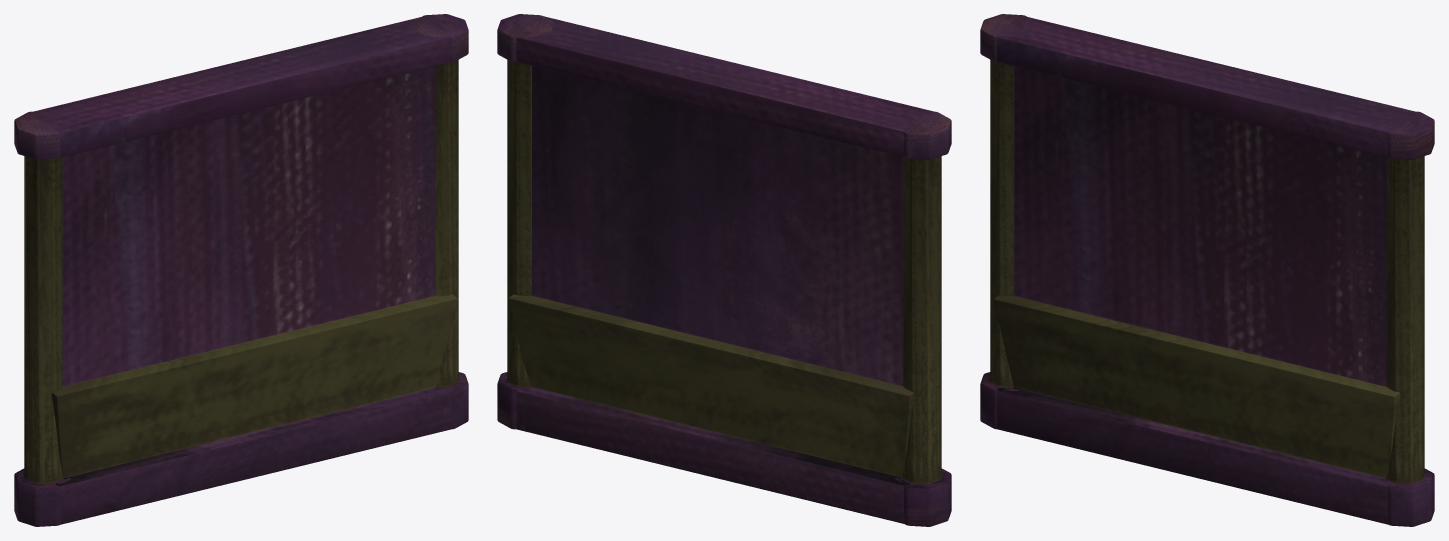
The model's file is MANOR_WALL_3_006.obj.
3 views of the same model, side by side, from view 1: azimuth 30°, elevation 25°; view 2: azimuth 150°, elevation 25°; view 3: azimuth 330°, elevation 25° (orthographic).
Parts seen in each view (by area): view 1: MANOR_WALL_3_006; view 2: MANOR_WALL_3_006; view 3: MANOR_WALL_3_006.
Boxes of the visible parts, left/top/right/bottom form: MANOR_WALL_3_006: left=14, top=14, right=468, bottom=526; MANOR_WALL_3_006: left=497, top=14, right=951, bottom=526; MANOR_WALL_3_006: left=980, top=14, right=1434, bottom=526.
Size of the model in its own units: 3.57 by 3 by 0.4138.
